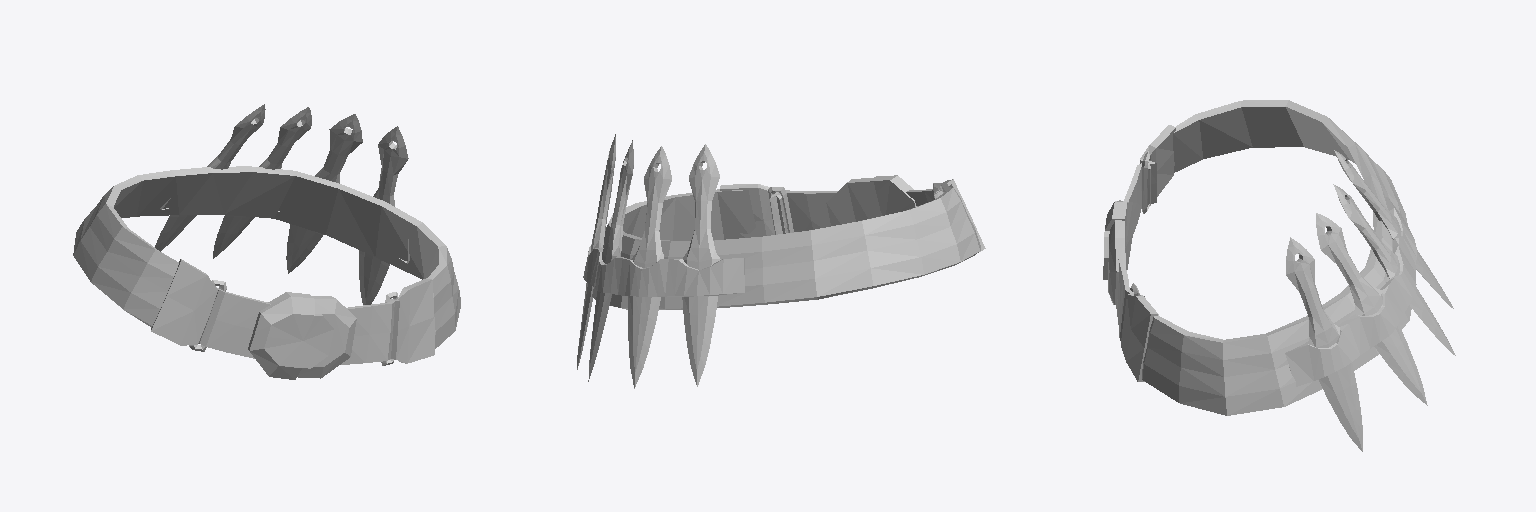
Rendered from paladins_belt.obj.
3 views of the same model, side by side, from view 1: azimuth 30°, elevation 25°; view 2: azimuth 150°, elevation 25°; view 3: azimuth 270°, elevation 25° (orthographic).
Parts seen in each view (by area): view 1: paladins_skye_belt; view 2: paladins_skye_belt; view 3: paladins_skye_belt.
Boxes of the visible parts, box(x1,y1,x2,y2) form: paladins_skye_belt: box(73, 104, 460, 379); paladins_skye_belt: box(577, 134, 985, 388); paladins_skye_belt: box(1103, 100, 1455, 451).
Bounding box in the file's own units: 13.01 × 8.58 × 11.13.